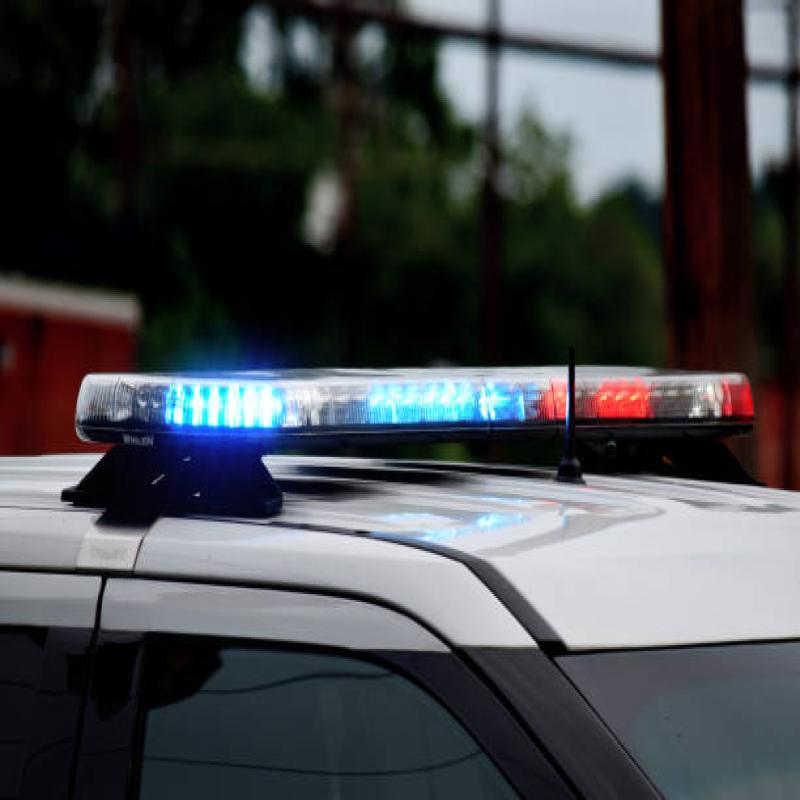AmbulanceSiren: (81, 329, 764, 497)
